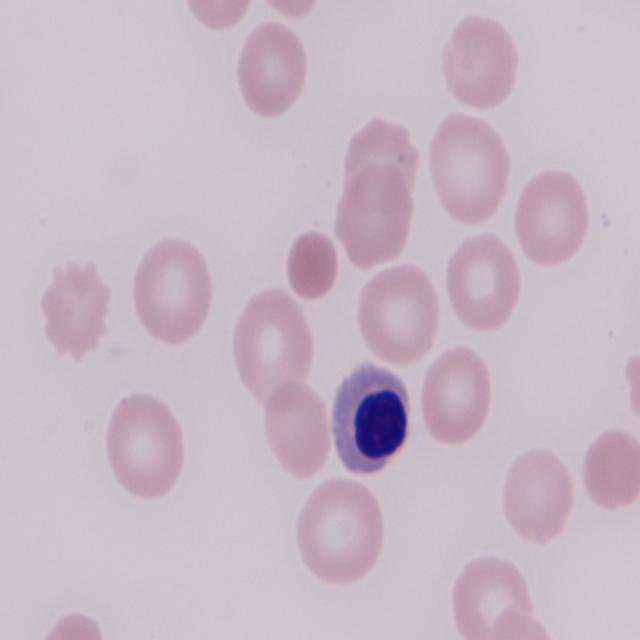RBC: (294, 474, 388, 588), (232, 284, 318, 406), (423, 109, 510, 228), (101, 389, 186, 507), (128, 234, 214, 348), (332, 156, 417, 270), (354, 260, 442, 367), (434, 12, 522, 117), (508, 164, 594, 268), (444, 232, 523, 339), (39, 256, 116, 361), (260, 374, 335, 481), (415, 344, 491, 448), (502, 446, 577, 550), (234, 16, 308, 120), (578, 428, 640, 514), (484, 607, 560, 640), (40, 608, 111, 640), (183, 0, 256, 30), (252, 0, 332, 20)
Spherocyte: (284, 228, 338, 299)
WBC: (338, 370, 416, 478)
